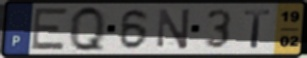3: (203, 8, 233, 50)
6: (118, 7, 151, 50)
E: (29, 7, 70, 52)
N: (156, 7, 193, 51)
Q: (68, 4, 107, 54)
T: (243, 9, 273, 50)
